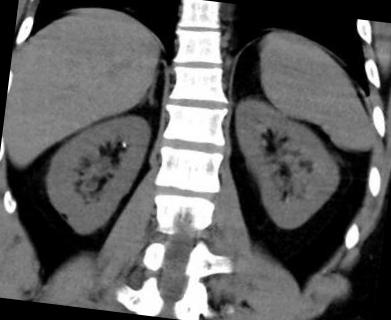Tas_Var: (119, 140, 128, 148)
